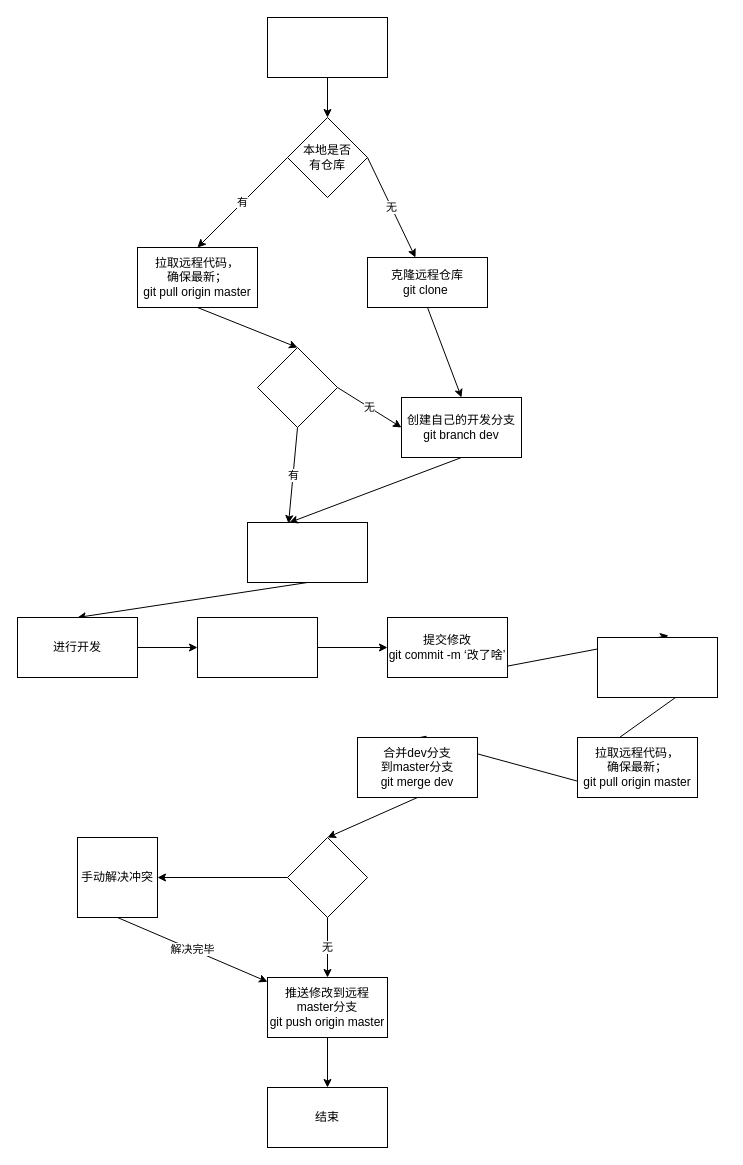
Image size: 743x1165. Some labels were removed from this diagram. The box of each missing label's shape, as (x1, y1, x2, y2) in pixels:
保存修改 git add *: (196, 616, 318, 678)
切换到自己的本地 开发分支 git checkout dev: (246, 522, 368, 582)
切换回主分支 git checkout master: (596, 636, 718, 698)
开始: (266, 16, 388, 78)
是否有 合并冲突: (286, 836, 368, 918)
是否有自己的 开发分支: (256, 346, 338, 428)
